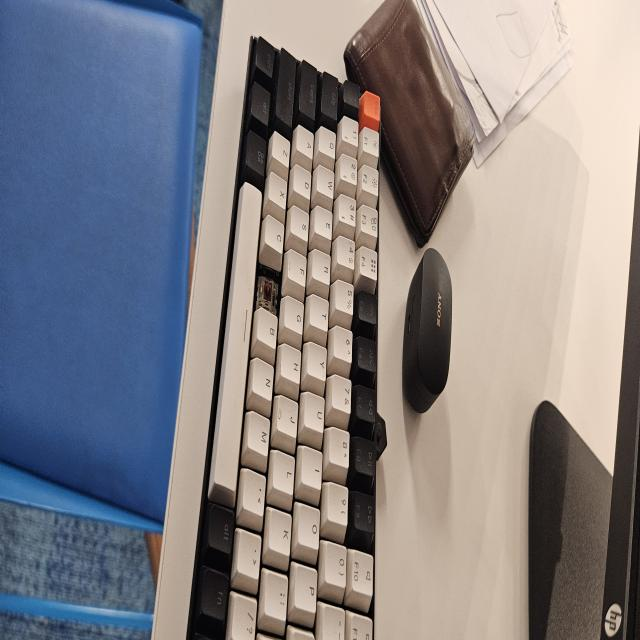C: (259, 268, 278, 313)
